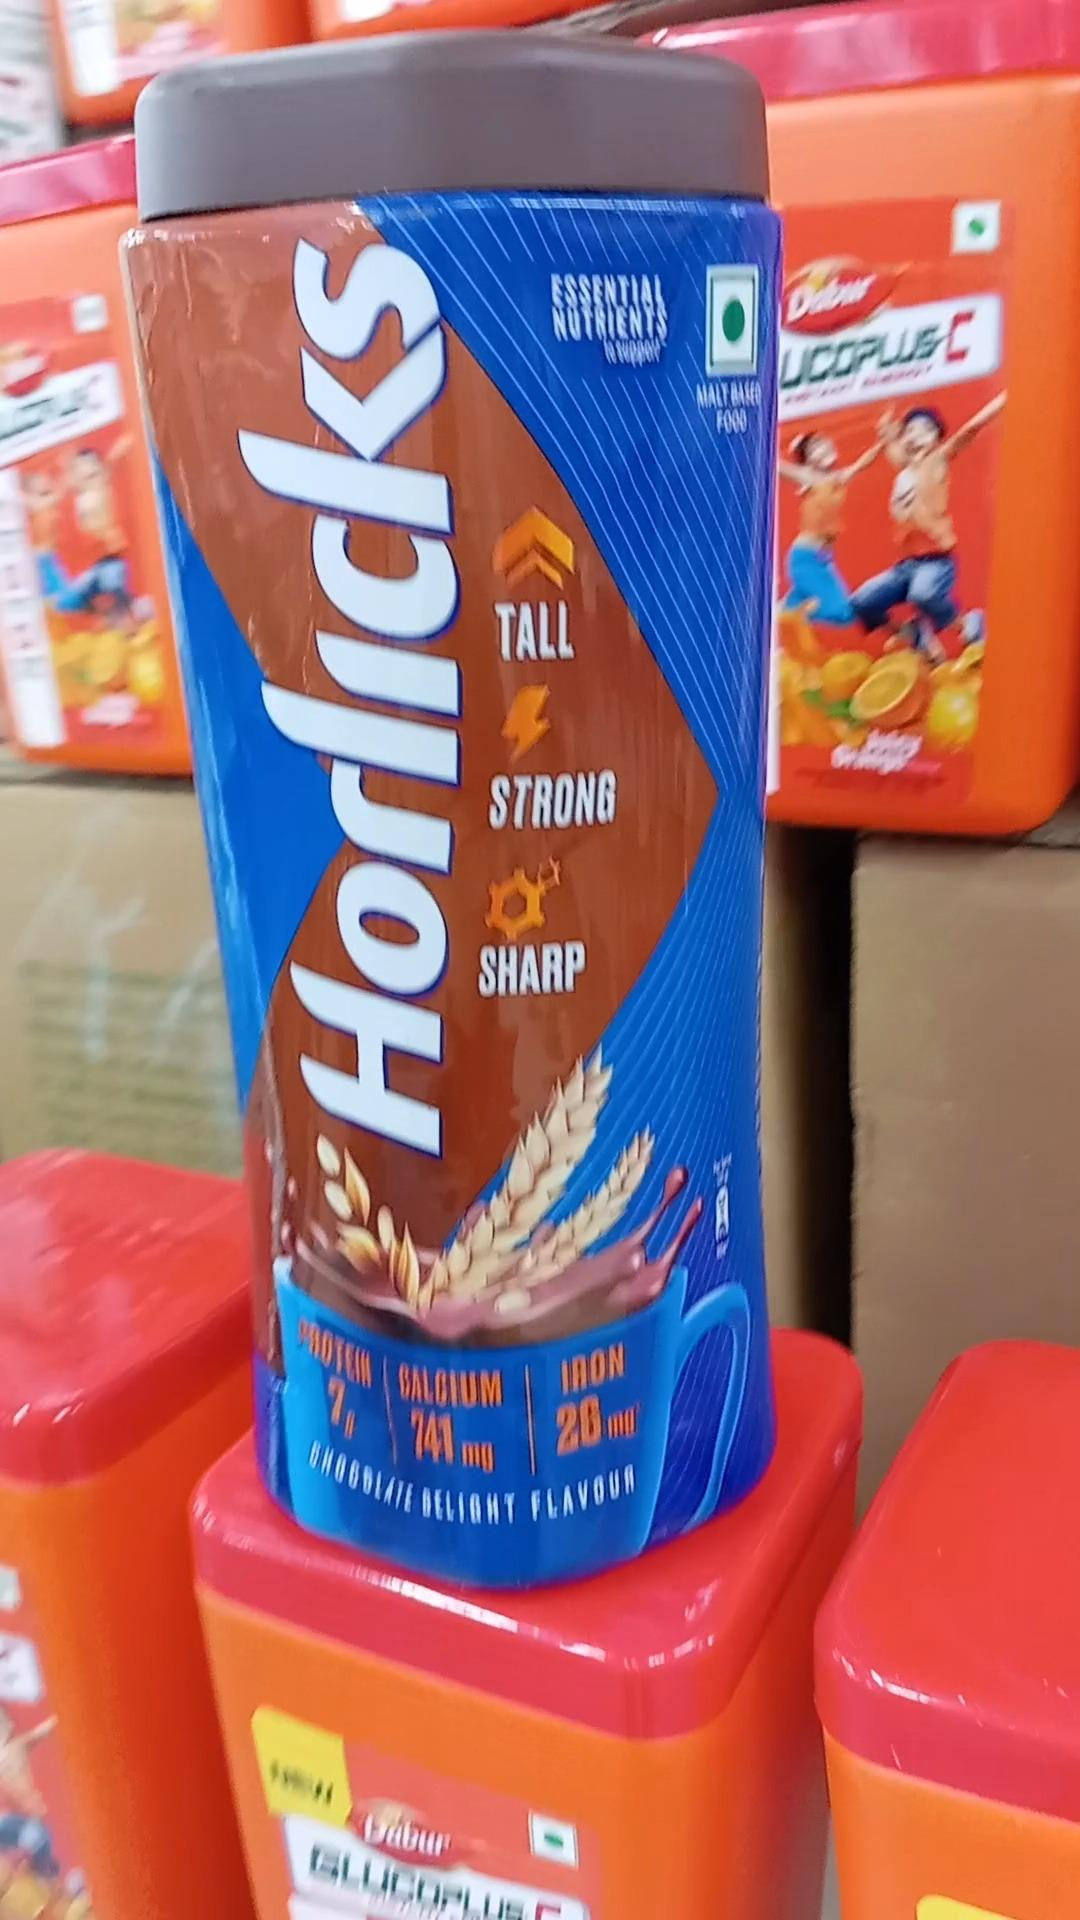HORLICK_CHOCOLATE_1_KG_JAR: (116, 36, 800, 1576)
